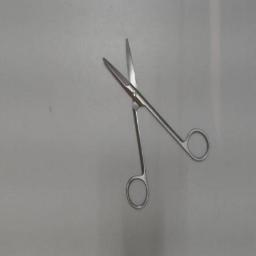Curved Mayo Scissors: (97, 32, 213, 212)
